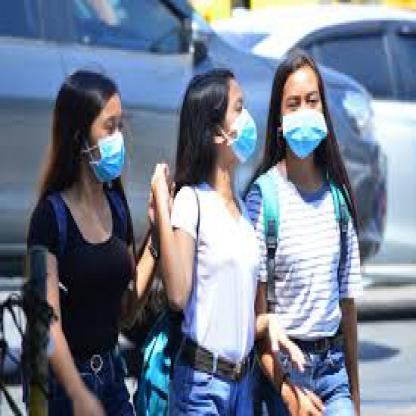Wearing_Mask: (70, 80, 128, 188), (203, 73, 260, 170), (278, 59, 327, 171)
